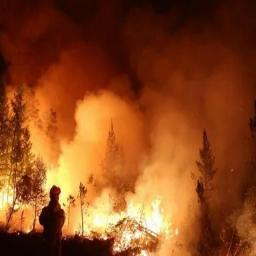Heavy smoke: (0, 0, 255, 252)
Medium fire: (0, 160, 182, 247)
